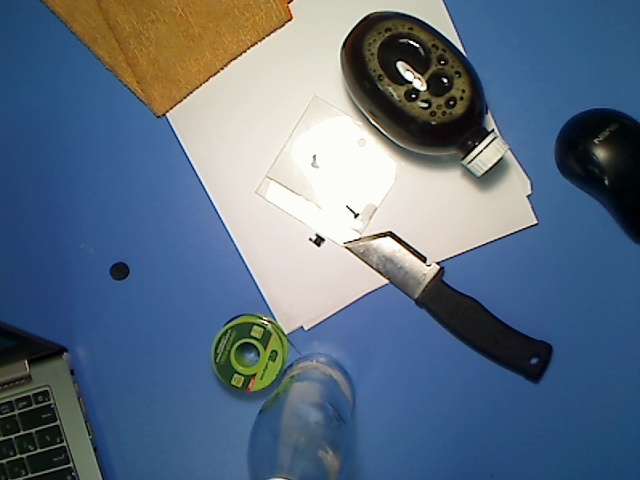plast_bottle: (336, 8, 513, 181)
